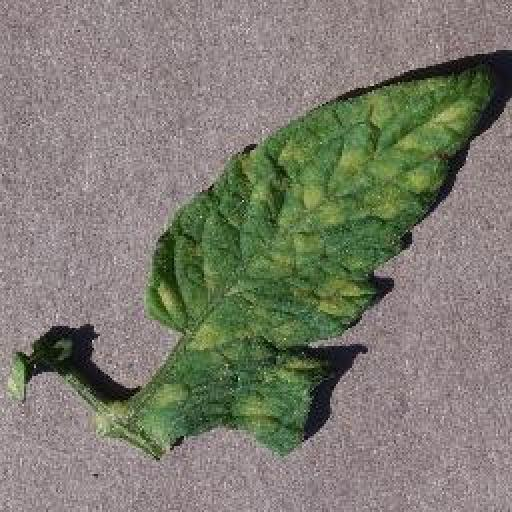Leaf Mold: (110, 60, 492, 459)
